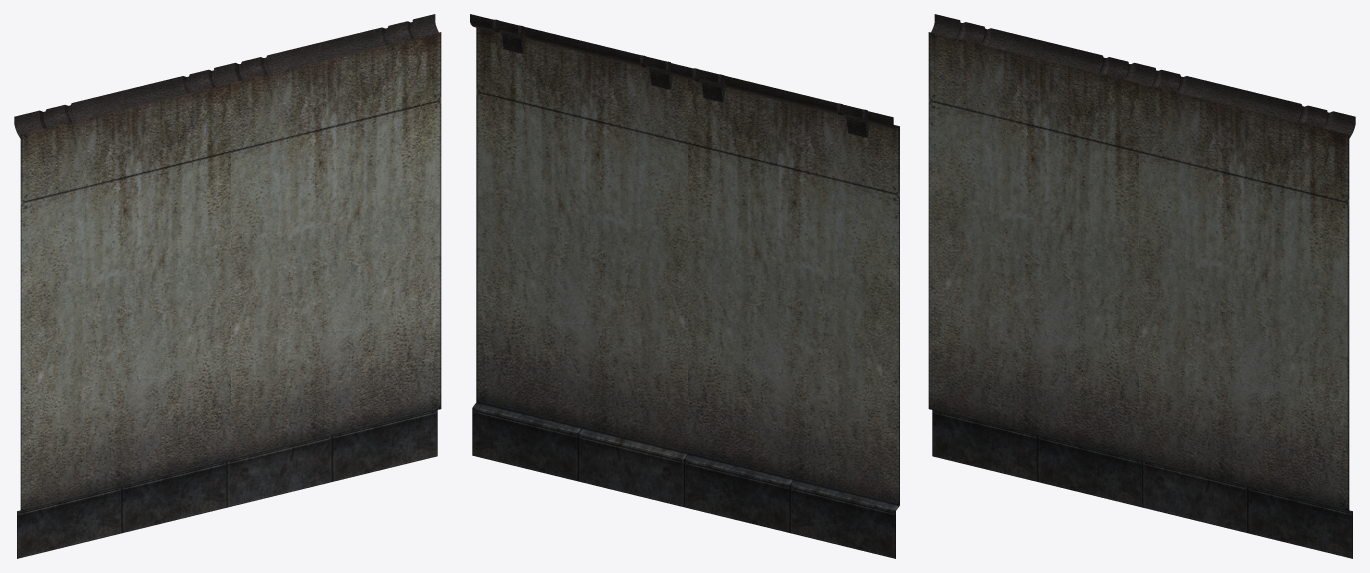
Rendered from lab_flat_rusty.dae.
3 views of the same model, side by side, from view 1: azimuth 30°, elevation 25°; view 2: azimuth 150°, elevation 25°; view 3: azimuth 330°, elevation 25° (orthographic).
Visible parts, largest first — view 1: lab_flat; view 2: lab_flat; view 3: lab_flat.
Boxes of the visible parts, x1,y1,x2,y2 form: lab_flat: (14,14,441,558); lab_flat: (470,14,899,558); lab_flat: (928,14,1355,558).
Size of the model in its own units: 4 by 4 by 0.1056.
